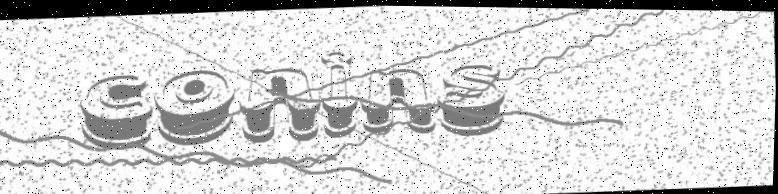c: (76, 70, 156, 153)
i: (316, 48, 362, 140)
n: (236, 63, 323, 144), (358, 65, 439, 137)
o: (152, 66, 238, 148)
s: (434, 60, 509, 137)
